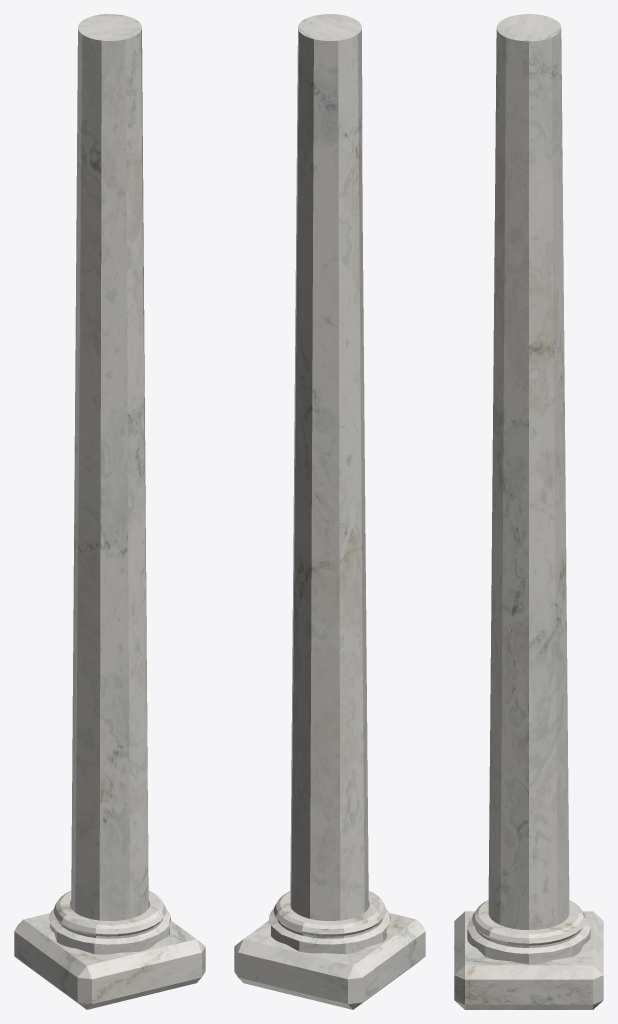
File: SäuleEckig.fbx
3 renders of one model, left to right at view 1: azimuth 30°, elevation 25°; view 2: azimuth 150°, elevation 25°; view 3: azimuth 270°, elevation 25°, orthographic.
Visible parts, largest first — view 1: SäuleR5; view 2: SäuleR5; view 3: SäuleR5.
Boxes of the visible parts, x1,y1,x2,y2 form: SäuleR5: [14, 14, 205, 1009]; SäuleR5: [234, 14, 425, 1009]; SäuleR5: [454, 14, 603, 1009].
Bounding box in the file's own units: 376 × 2652 × 376.
